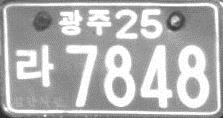2: (113, 7, 139, 41)
4: (137, 43, 173, 110)
5: (140, 8, 164, 40)
7: (63, 42, 99, 110)
8: (176, 43, 210, 110), (101, 43, 136, 106)
광주_O: (55, 7, 111, 37)
라: (15, 42, 53, 86)
